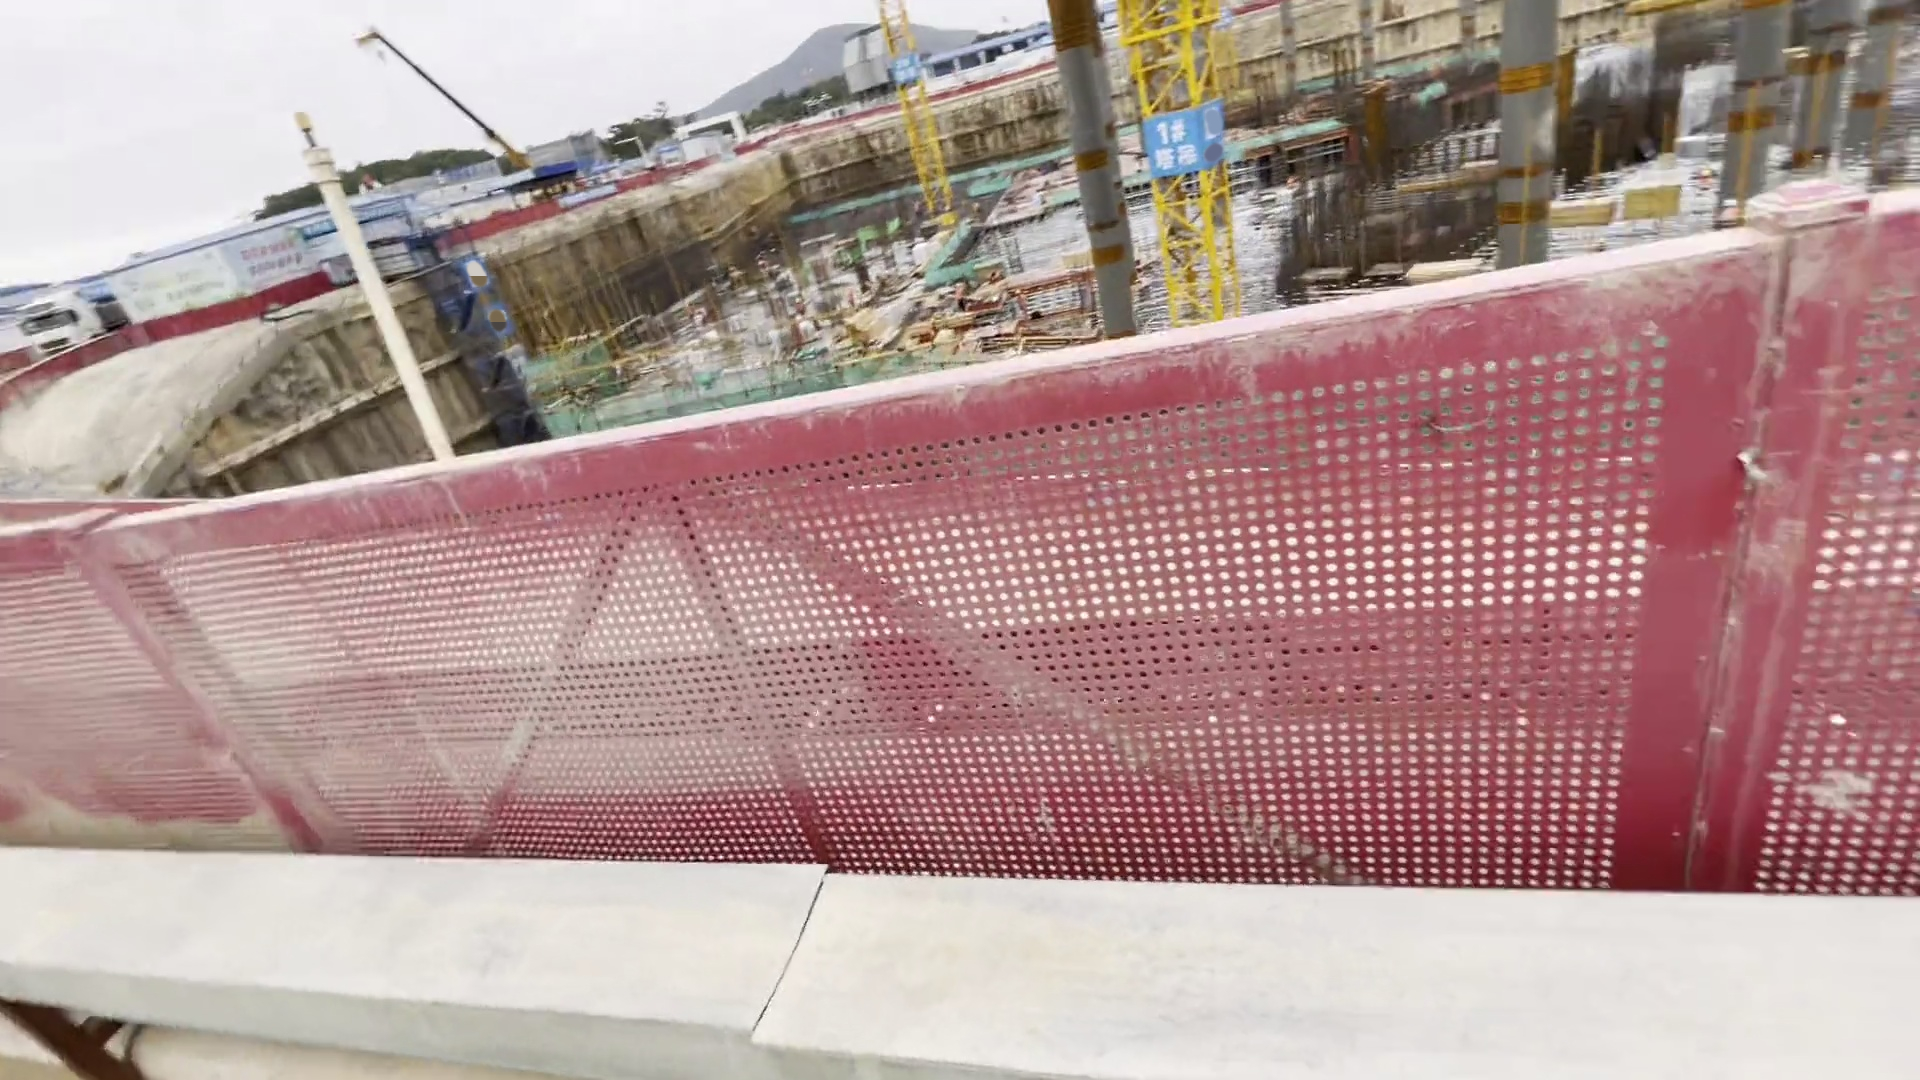fence: (1, 451, 1873, 851)
slogan: (115, 222, 309, 331)
